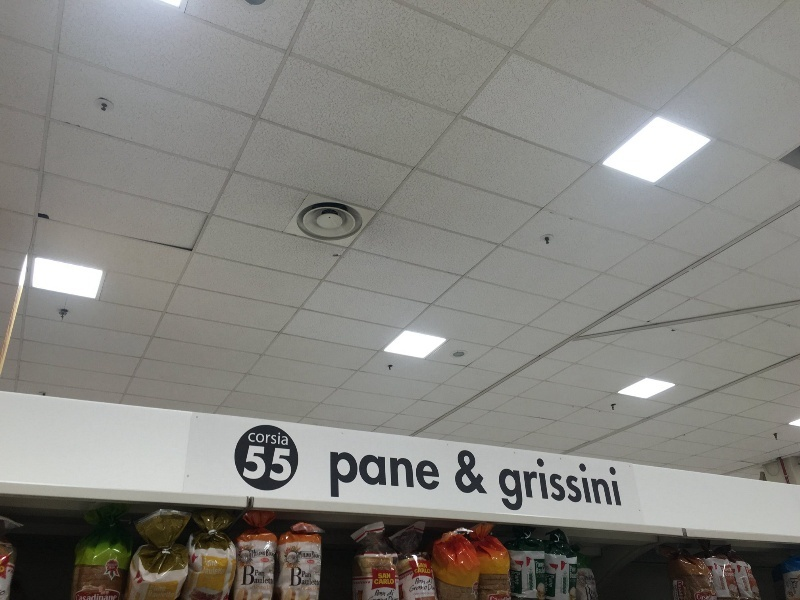text: (513, 454, 528, 512), (529, 454, 544, 512), (545, 454, 560, 512), (561, 454, 576, 512), (577, 454, 592, 512), (593, 454, 608, 512), (609, 454, 623, 512), (337, 450, 352, 499), (353, 450, 368, 499), (369, 450, 384, 499), (385, 450, 400, 499), (401, 450, 416, 499), (417, 450, 432, 499), (465, 449, 480, 496), (500, 454, 512, 512), (257, 445, 272, 483), (273, 445, 288, 483), (433, 450, 443, 499), (456, 449, 464, 496), (481, 449, 489, 496), (257, 562, 272, 586), (305, 567, 320, 587), (330, 450, 336, 499), (244, 562, 256, 586), (290, 567, 304, 587), (249, 445, 256, 483), (529, 574, 544, 591), (273, 432, 289, 447), (161, 584, 177, 599), (209, 558, 224, 574), (563, 577, 576, 595), (257, 432, 272, 447), (789, 577, 800, 596), (678, 582, 688, 600), (515, 572, 528, 585), (549, 575, 560, 589), (289, 445, 293, 483), (273, 562, 279, 586), (305, 551, 321, 560), (722, 567, 736, 577), (257, 549, 272, 558), (417, 584, 432, 593), (151, 584, 160, 599), (1, 566, 16, 575), (249, 432, 256, 447), (417, 568, 431, 575), (585, 586, 592, 600), (81, 594, 96, 600), (97, 594, 112, 600), (1, 590, 16, 596), (390, 589, 400, 597), (535, 560, 544, 568), (705, 594, 717, 600), (746, 568, 752, 579), (204, 558, 208, 574), (377, 589, 384, 598), (417, 578, 426, 585), (321, 567, 324, 587), (374, 579, 384, 585), (385, 579, 395, 585), (417, 563, 427, 569), (257, 570, 265, 577), (536, 568, 544, 575), (593, 586, 597, 600), (298, 551, 304, 560), (545, 577, 548, 595), (696, 594, 704, 600), (510, 571, 512, 593), (513, 571, 515, 593), (305, 572, 312, 578), (378, 573, 384, 580), (385, 573, 391, 580), (570, 566, 576, 573), (252, 549, 256, 558), (412, 584, 416, 593), (433, 584, 437, 593), (570, 573, 576, 579), (113, 594, 118, 600), (113, 563, 118, 569), (76, 594, 80, 600), (108, 563, 112, 569), (429, 578, 432, 585), (273, 549, 275, 558), (225, 558, 226, 574), (414, 568, 416, 575), (302, 572, 304, 578), (753, 568, 754, 579), (385, 589, 386, 598), (255, 570, 256, 577)
